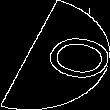O_W: (10, 26, 100, 84)
